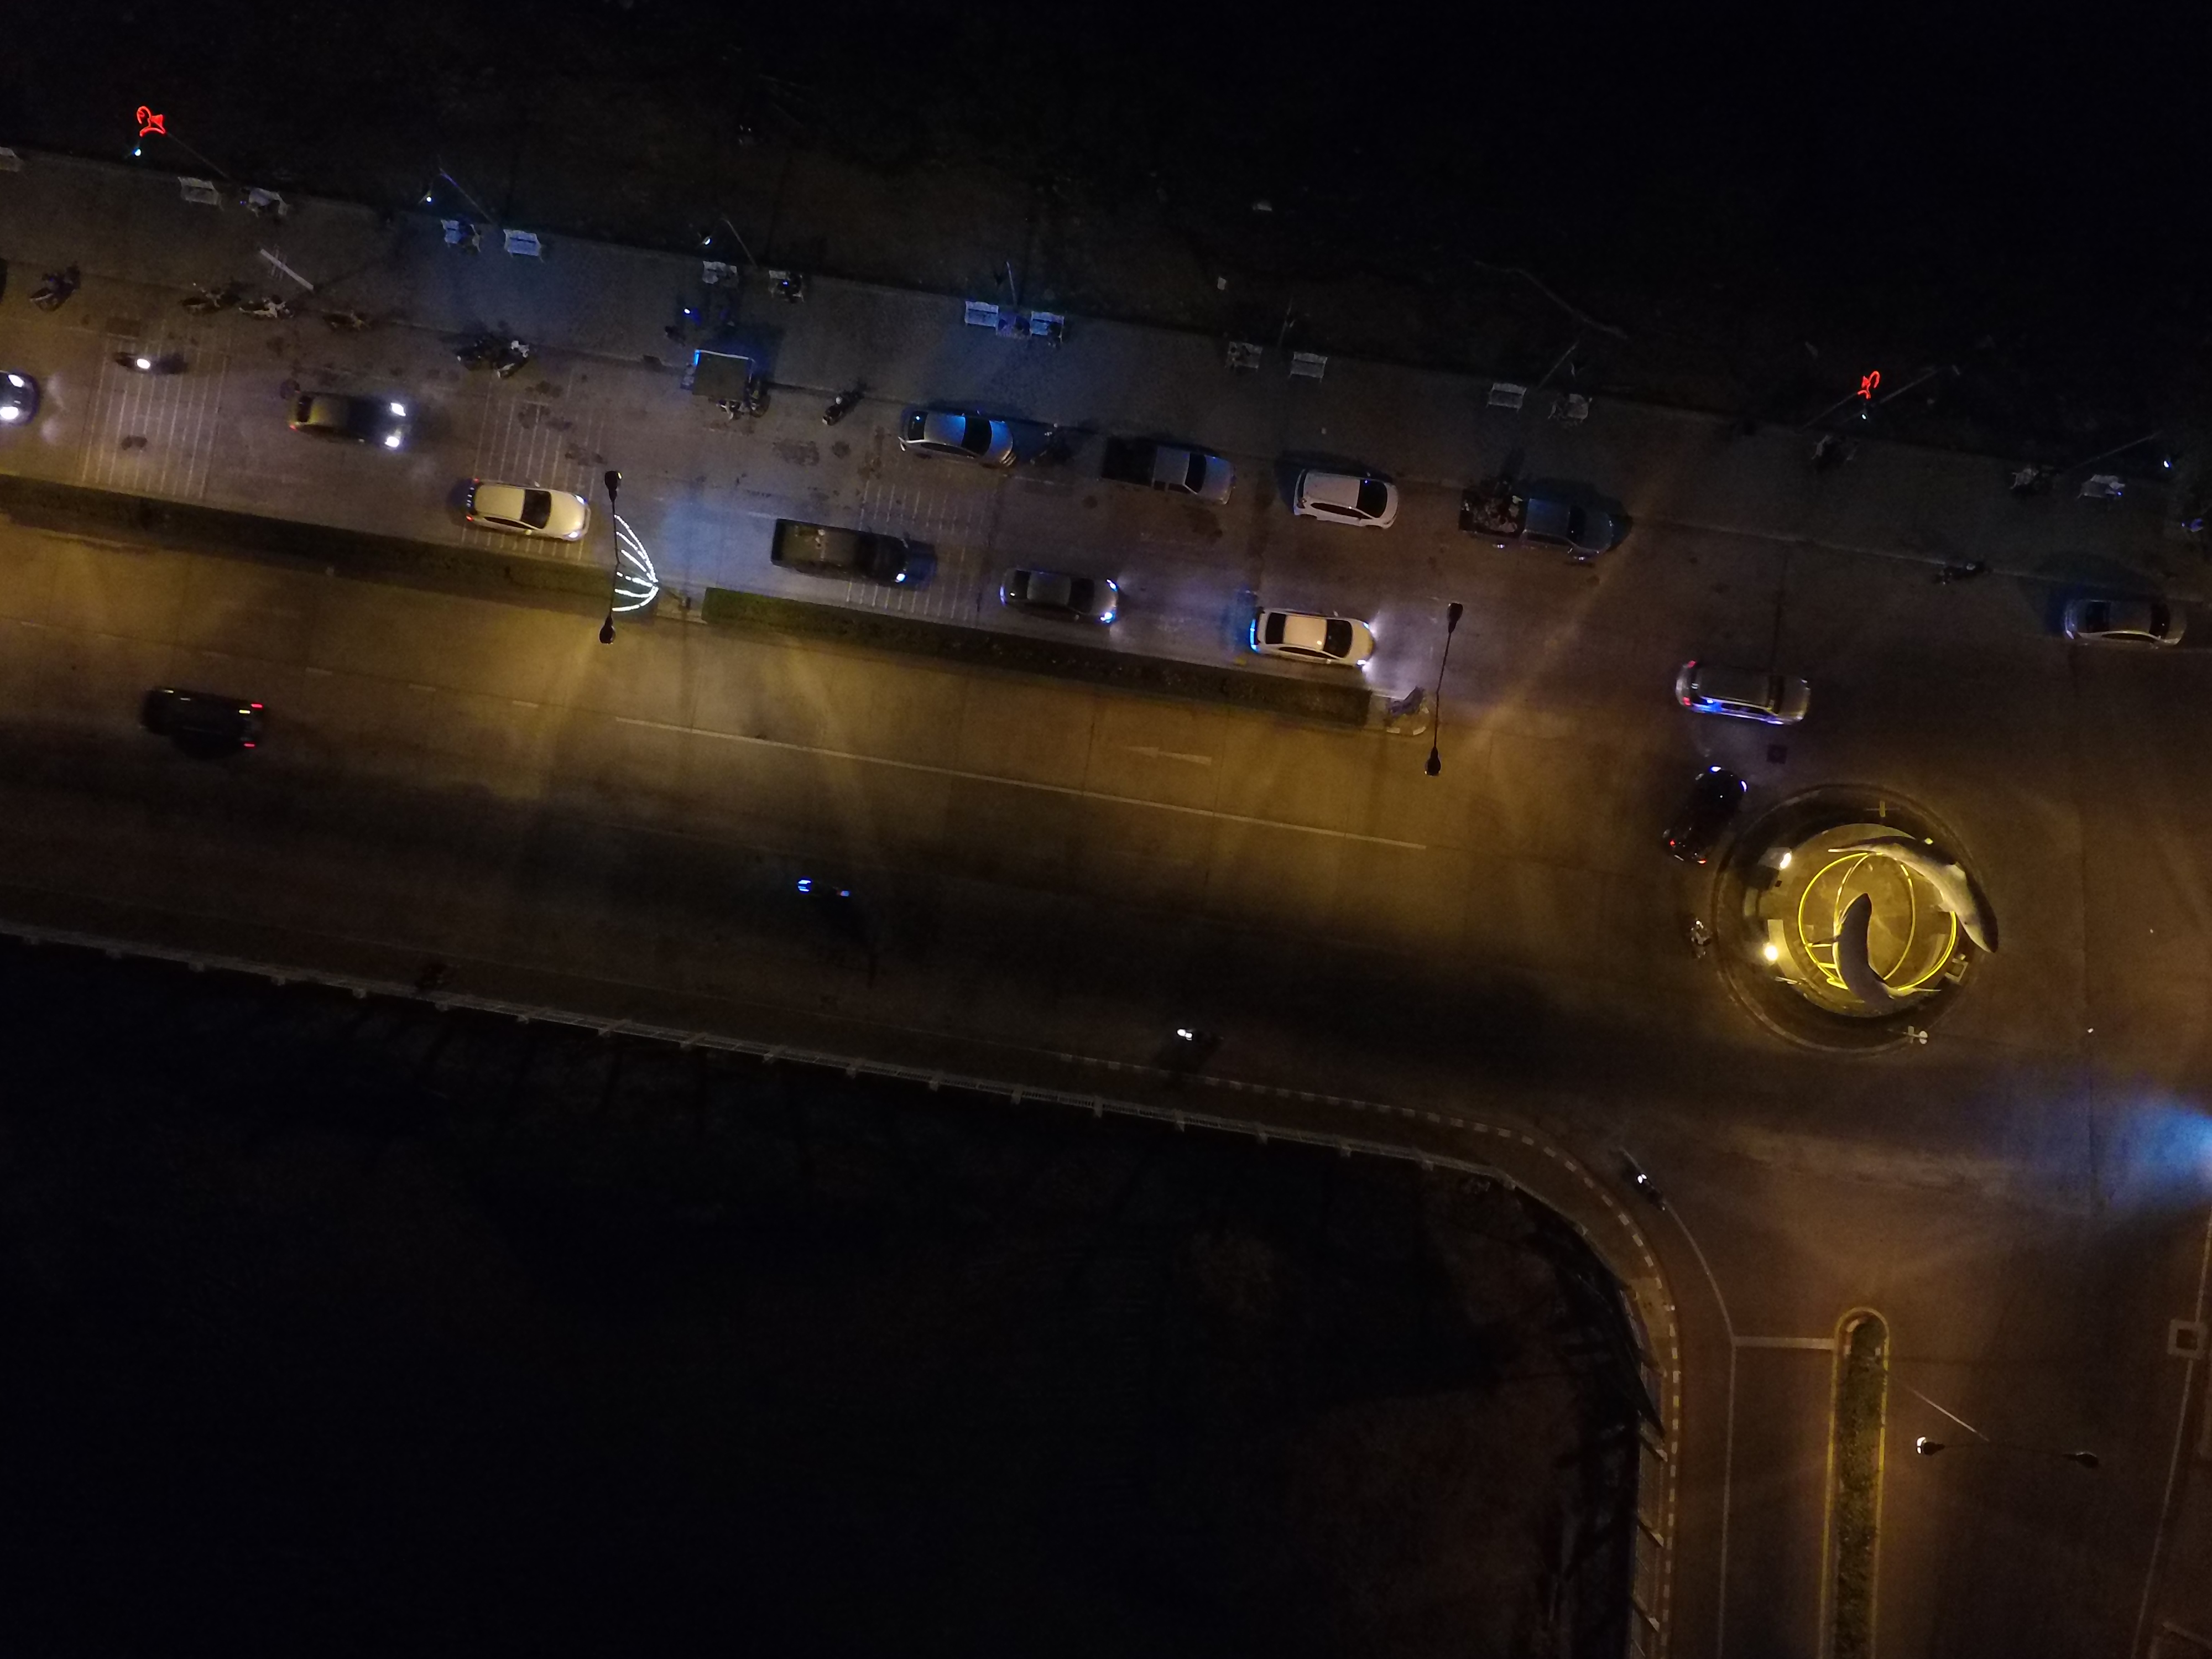car: (1458, 464, 1634, 577), (1662, 648, 1834, 744), (1228, 586, 1399, 681), (2040, 570, 2193, 674), (456, 457, 599, 547), (129, 674, 272, 765), (779, 502, 921, 592), (988, 545, 1130, 636), (1096, 427, 1238, 518), (1268, 458, 1411, 549), (280, 373, 423, 462), (887, 397, 1029, 486), (1655, 751, 1750, 871)
